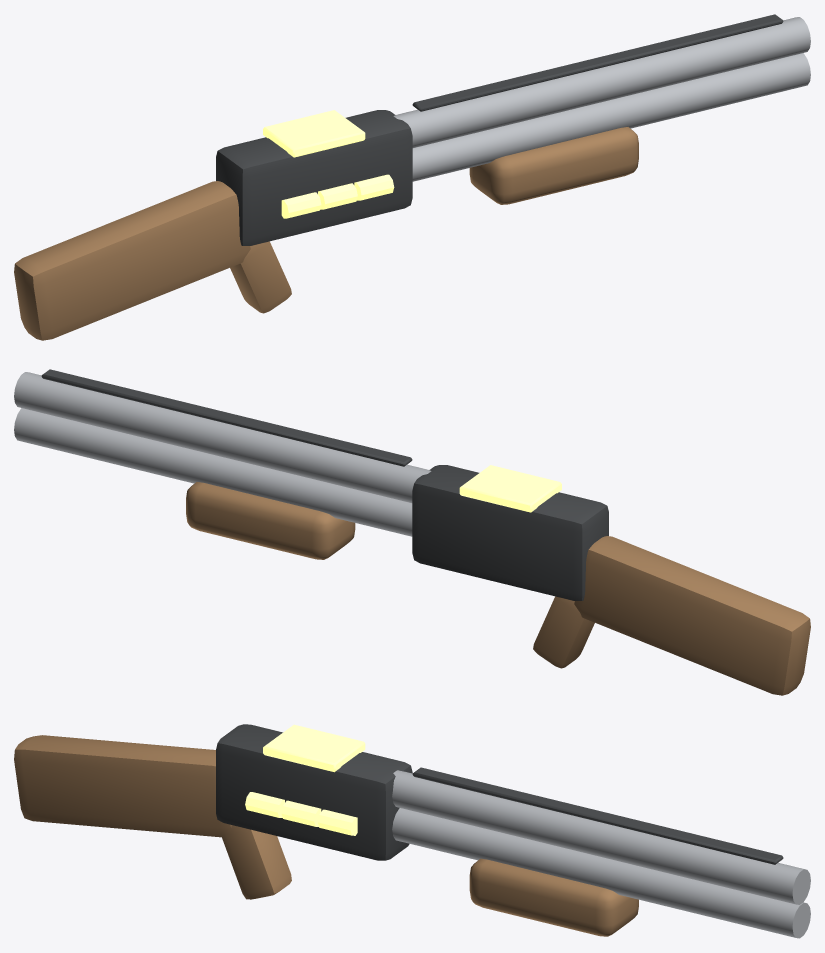
The model's file is pk_scatter.glb.
3 views of the same model, one above another, from view 1: azimuth 30°, elevation 25°; view 2: azimuth 150°, elevation 25°; view 3: azimuth 330°, elevation 25° (orthographic).
Visible parts, largest first — view 1: pk_scatter; view 2: pk_scatter; view 3: pk_scatter.
Part boxes in pixels (box(x1,y1,x2,y2)): pk_scatter: box(14, 14, 810, 340); pk_scatter: box(14, 369, 810, 695); pk_scatter: box(14, 724, 810, 938).
Bounding box in the file's own units: 1.07 × 0.2162 × 0.092.
